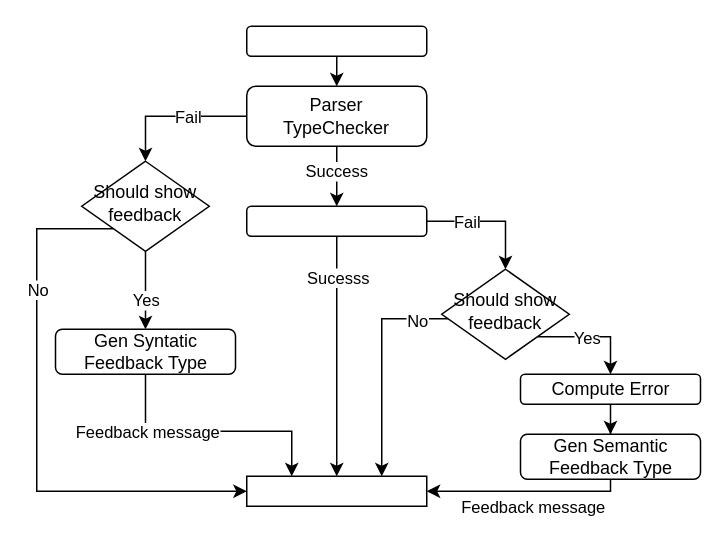
Image size: 728x543. Some labels were removed from this diagram. Each missing label, with the box of its shape:
Evaluate: (245, 205, 427, 236)
Output: (245, 475, 427, 506)
User Input: (245, 25, 427, 56)
